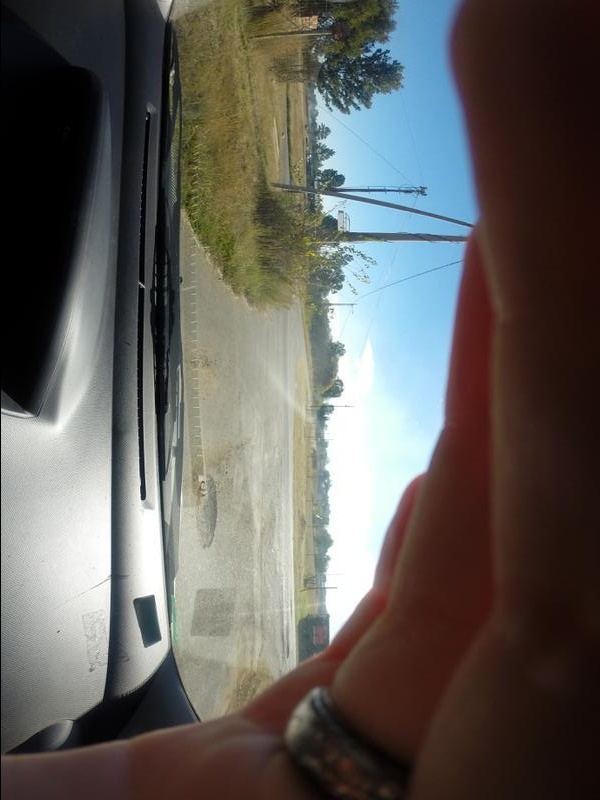pothole: (196, 474, 225, 548), (287, 629, 291, 658), (290, 599, 294, 625)
